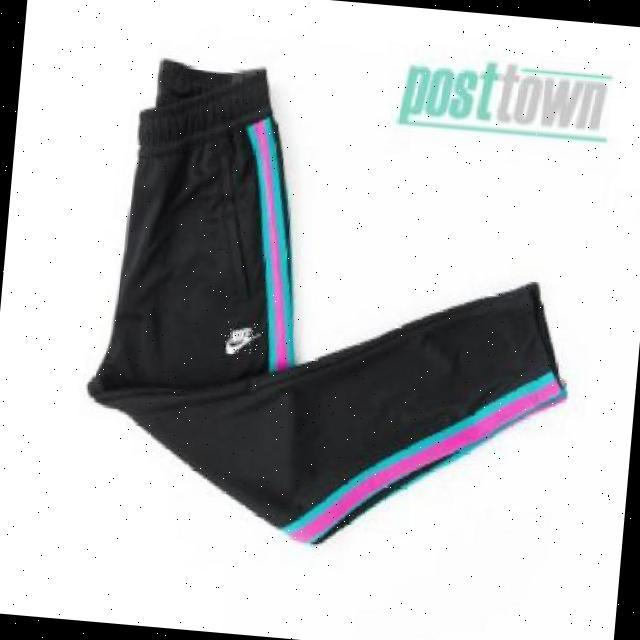Nike: (223, 321, 260, 355)
